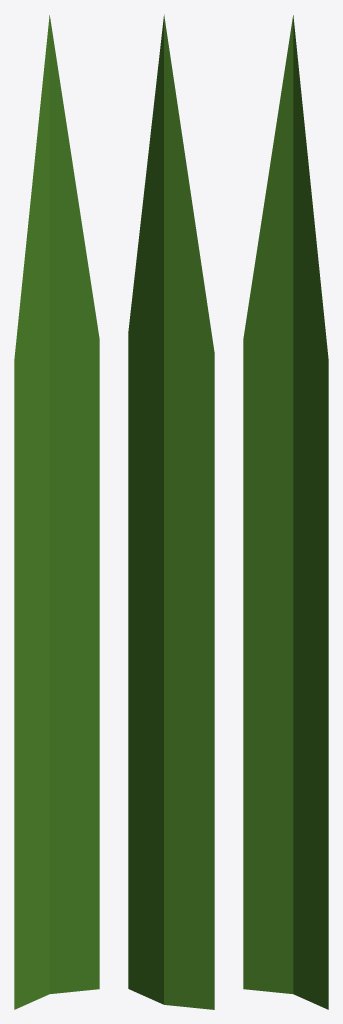
The model's file is rock_kicking_park_grass.glb.
3 renders of one model, left to right at view 1: azimuth 30°, elevation 25°; view 2: azimuth 150°, elevation 25°; view 3: azimuth 330°, elevation 25°, orthographic.
Visible parts, largest first — view 1: Grass; view 2: Grass; view 3: Grass.
Boxes of the visible parts, x1,y1,x2,y2 form: Grass: (14, 15, 99, 1009); Grass: (128, 14, 214, 1009); Grass: (243, 15, 328, 1009).
Size of the model in its own units: 0.1889 by 2.07 by 0.0281.
